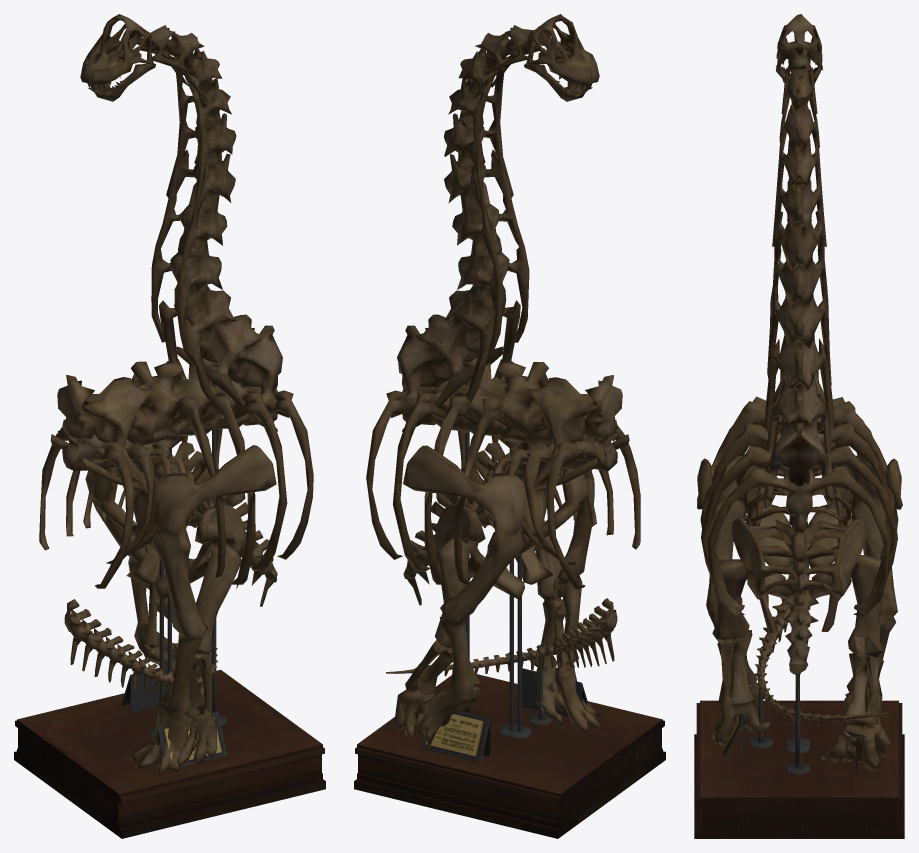
Rendered from fossil-brachio.glb.
3 views of the same model, side by side, from view 1: azimuth 30°, elevation 25°; view 2: azimuth 150°, elevation 25°; view 3: azimuth 270°, elevation 25° (orthographic). The views are drawn at different scales.
Parts seen in each view (by area): view 1: mFtrFossilBrachiosaurusB, mFtrFossilBrachiosaurusA, mFossilBaseEnd (×2), mFtrFossilBrachiosaurusC, mFossilBaseMiddle, mFtrFossilBrachiosaurusD; view 2: mFtrFossilBrachiosaurusB, mFtrFossilBrachiosaurusA, mFossilBaseMiddle (×2), mFossilBaseEnd (×2), mFtrFossilBrachiosaurusC, mFtrFossilBrachiosaurusD; view 3: mFossilBaseEnd (×2), mFtrFossilBrachiosaurusC, mFtrFossilBrachiosaurusA, mFtrFossilBrachiosaurusB, mFossilBaseMiddle (×2), mFtrFossilBrachiosaurusD.
Boxes of the visible parts, box(x1,y1,x2,y2) form: mFtrFossilBrachiosaurusB: box(50, 358, 313, 773); mFtrFossilBrachiosaurusA: box(80, 14, 288, 431); mFossilBaseEnd (×2): box(15, 381, 325, 838); mFtrFossilBrachiosaurusC: box(39, 402, 277, 766); mFossilBaseMiddle: box(14, 441, 325, 838); mFtrFossilBrachiosaurusD: box(64, 599, 217, 696); mFtrFossilBrachiosaurusB: box(366, 358, 629, 748); mFtrFossilBrachiosaurusA: box(391, 14, 599, 431); mFossilBaseMiddle (×2): box(354, 448, 665, 838); mFossilBaseEnd (×2): box(354, 380, 664, 837); mFtrFossilBrachiosaurusC: box(394, 403, 640, 745); mFtrFossilBrachiosaurusD: box(386, 598, 617, 676); mFossilBaseEnd (×2): box(694, 514, 904, 838); mFtrFossilBrachiosaurusC: box(712, 396, 884, 770); mFtrFossilBrachiosaurusA: box(764, 14, 834, 508); mFtrFossilBrachiosaurusB: box(697, 352, 902, 762); mFossilBaseMiddle (×2): box(694, 700, 904, 838); mFtrFossilBrachiosaurusD: box(754, 574, 890, 724).
Size of the model in its own units: 20.19 by 72.24 by 18.33.
8 materials, 8 textured.
